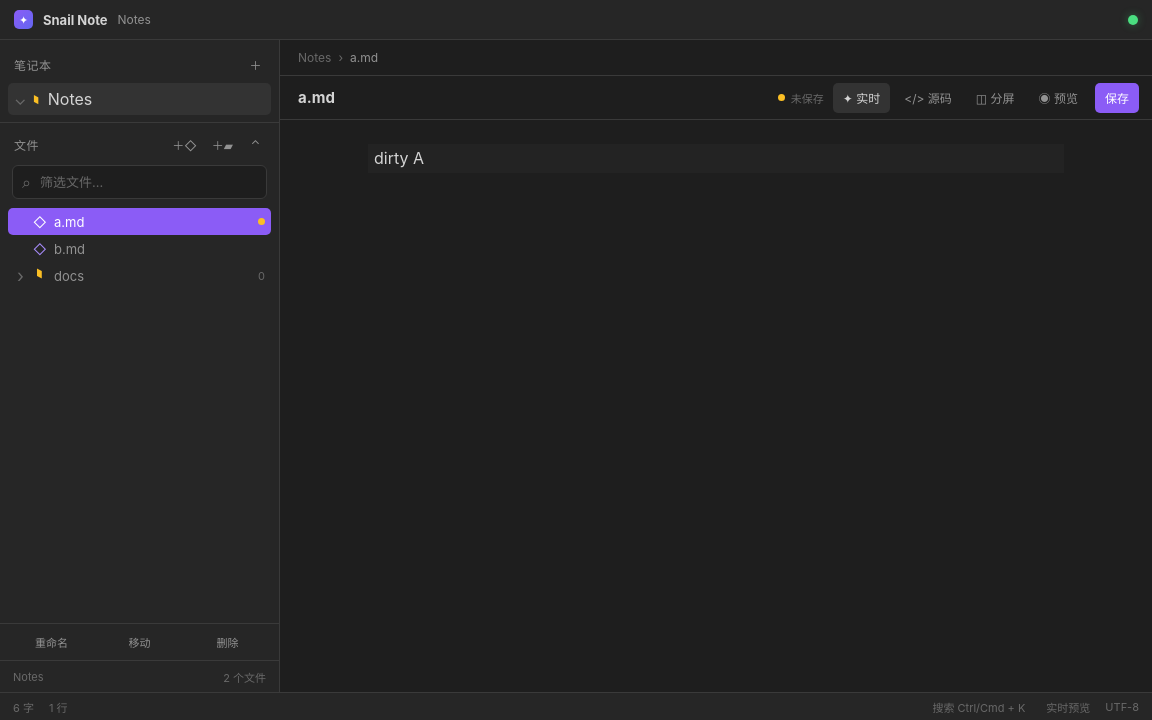
App workspace navigation › saves dirty notes when the user chooses save, and stays put if save fails
This screenshot has width=1152, height=720.
expect the text "未保存" is shown: met, box [778, 90, 824, 106]
Click the button "◇ b.md" at coordinates (70, 248), box [8, 235, 271, 262]
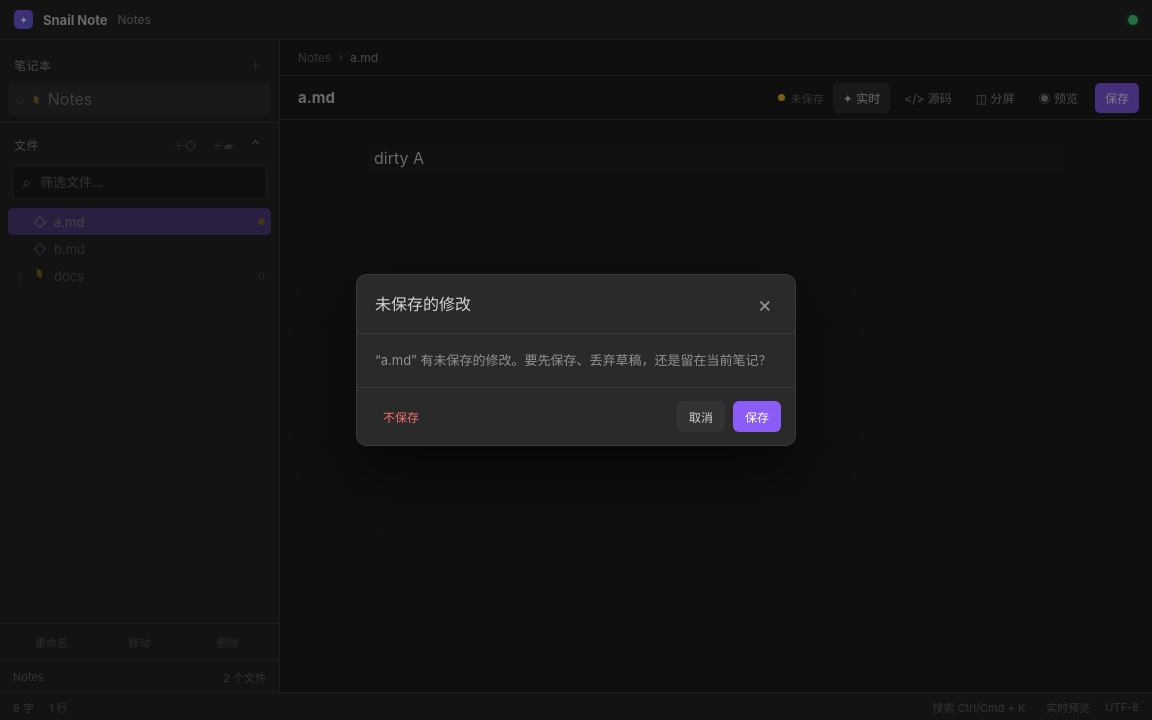
Click the button "保存" at coordinates (757, 417), box [733, 401, 781, 432]
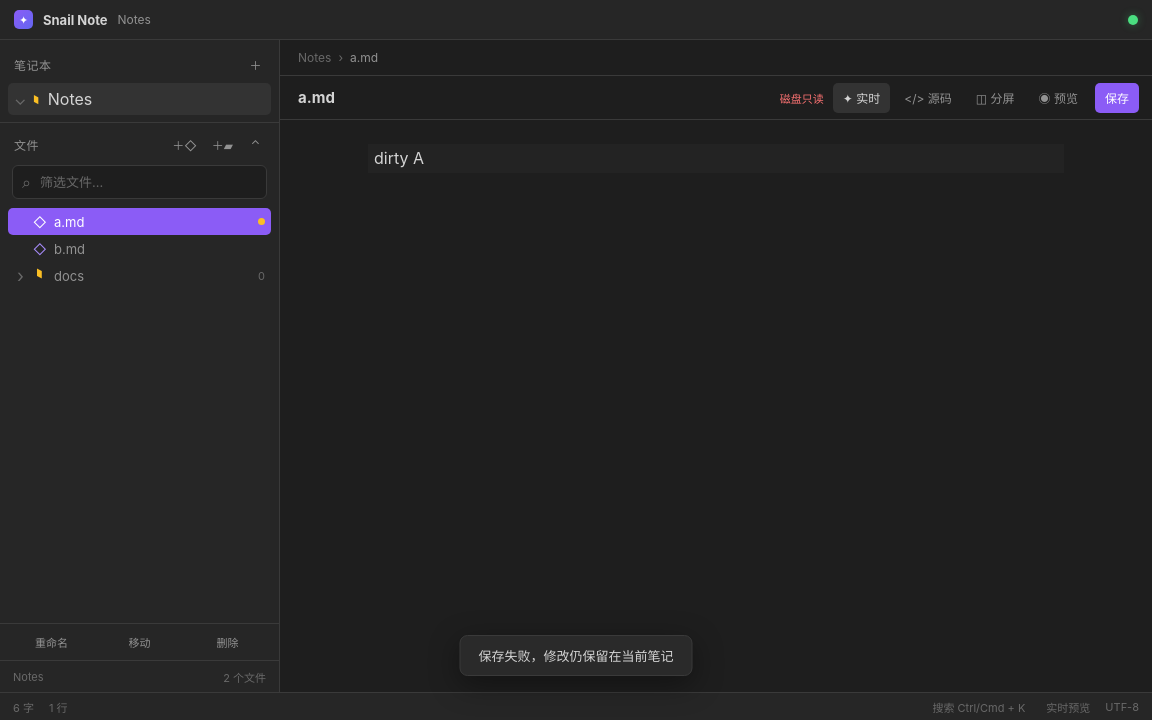
expect the text "磁盘只读" is shown: met, box [780, 90, 824, 106]
